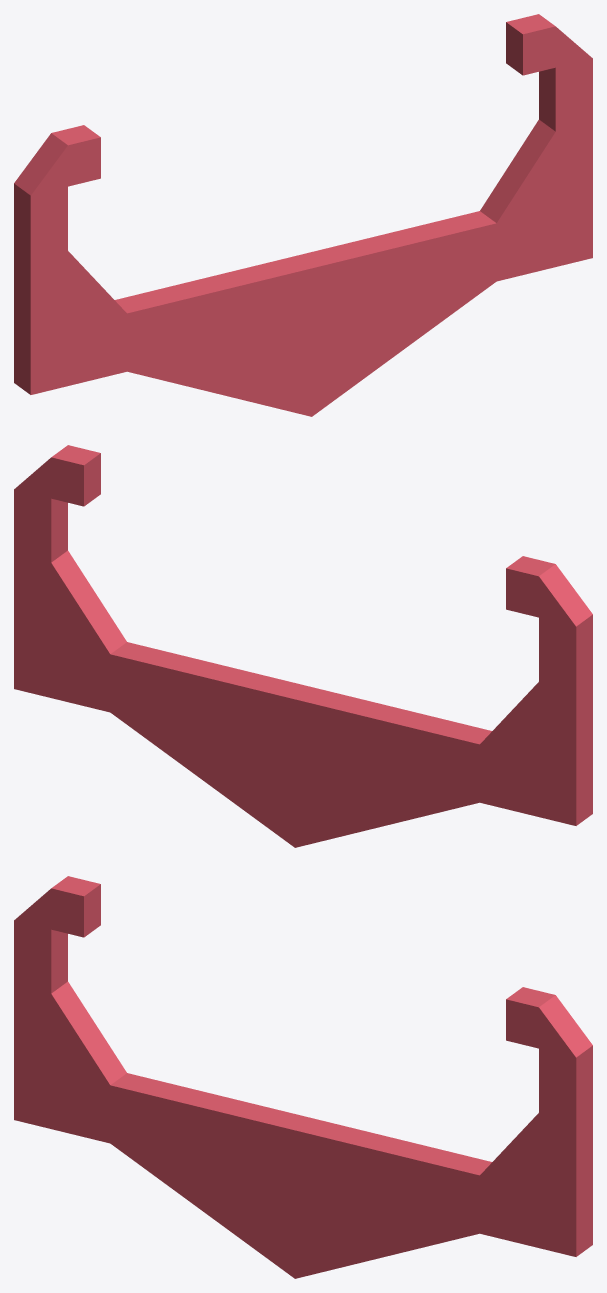
The model's file is ExportedBlenderFBXFile.fbx.
3 renders of one model, top to bottom at view 1: azimuth 30°, elevation 25°; view 2: azimuth 150°, elevation 25°; view 3: azimuth 330°, elevation 25°, orthographic.
Visible parts, largest first — view 1: Cross; view 2: Cross; view 3: Cross.
Boxes of the visible parts, x1=… form: Cross: x1=14, y1=14, x2=592, y2=416; Cross: x1=14, y1=445, x2=592, y2=847; Cross: x1=14, y1=876, x2=592, y2=1278.
Size of the model in its own units: 2.96 by 1.67 by 0.1537.
